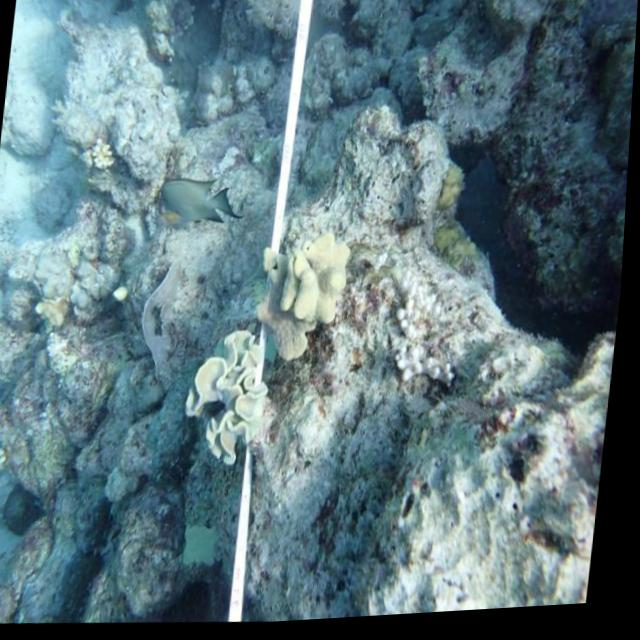Bleached Coral: (176, 320, 296, 495), (259, 223, 368, 371), (83, 124, 131, 191)
